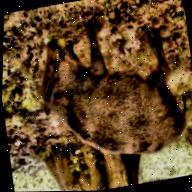boar: (9, 4, 192, 178)
